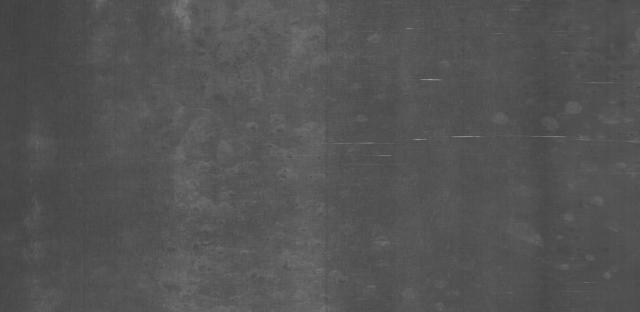crease: (312, 94, 614, 181)
